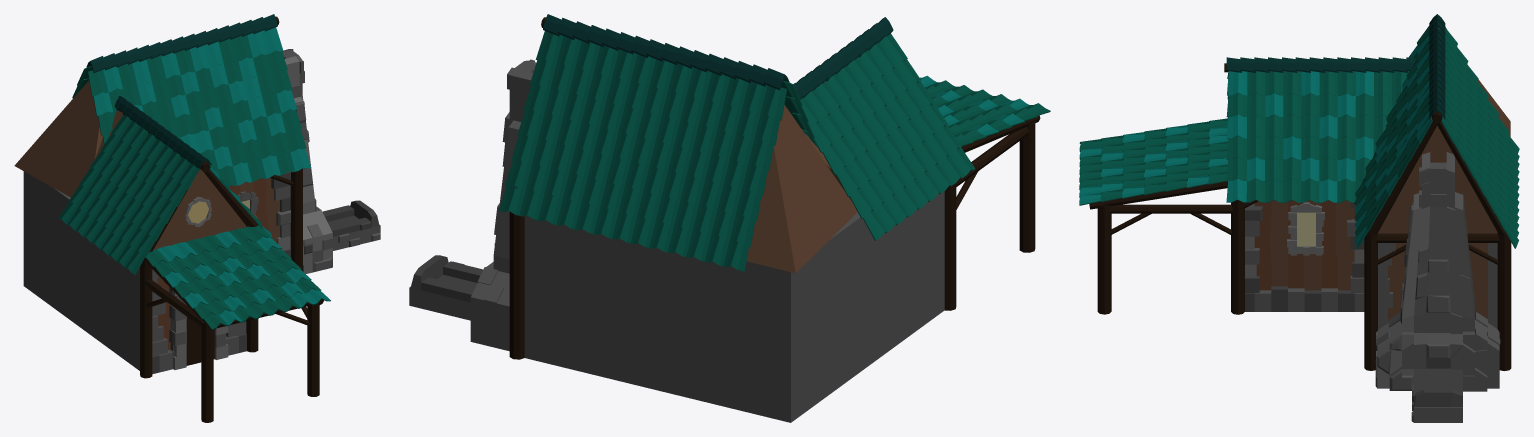
Rendered from Character-House-1.fbx.
3 views of the same model, side by side, from view 1: azimuth 30°, elevation 25°; view 2: azimuth 150°, elevation 25°; view 3: azimuth 270°, elevation 25° (orthographic). The views are drawn at different scales.
Parts seen in each view (by area): view 1: Cube.017; view 2: Cube.017; view 3: Cube.017.
Part boxes in pixels (bbox=[...]): Cube.017: bbox=[14, 14, 380, 422]; Cube.017: bbox=[409, 14, 1050, 422]; Cube.017: bbox=[1079, 14, 1519, 422].
Bounding box in the file's own units: 1893 × 1308 × 1989.
